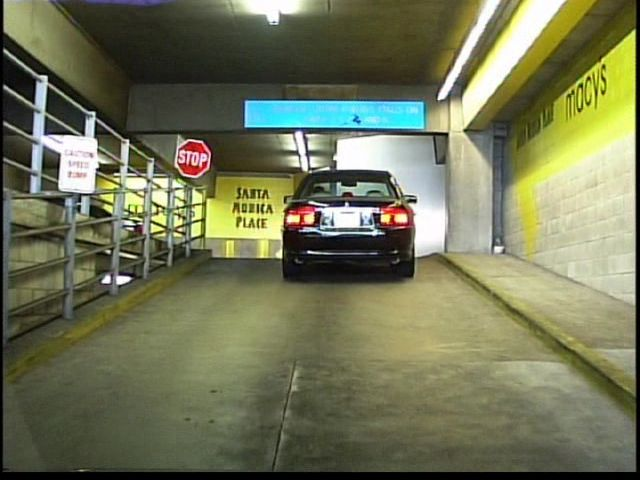car: (284, 163, 420, 276)
stop: (171, 135, 211, 181)
